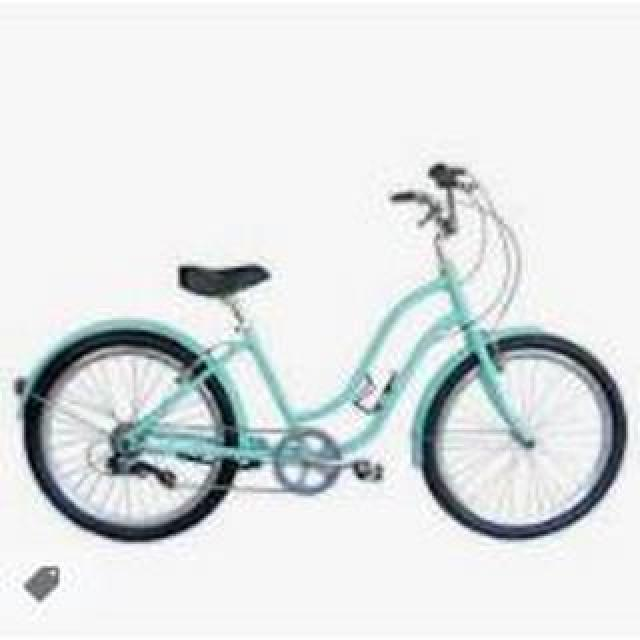Person: (18, 137, 630, 581)
